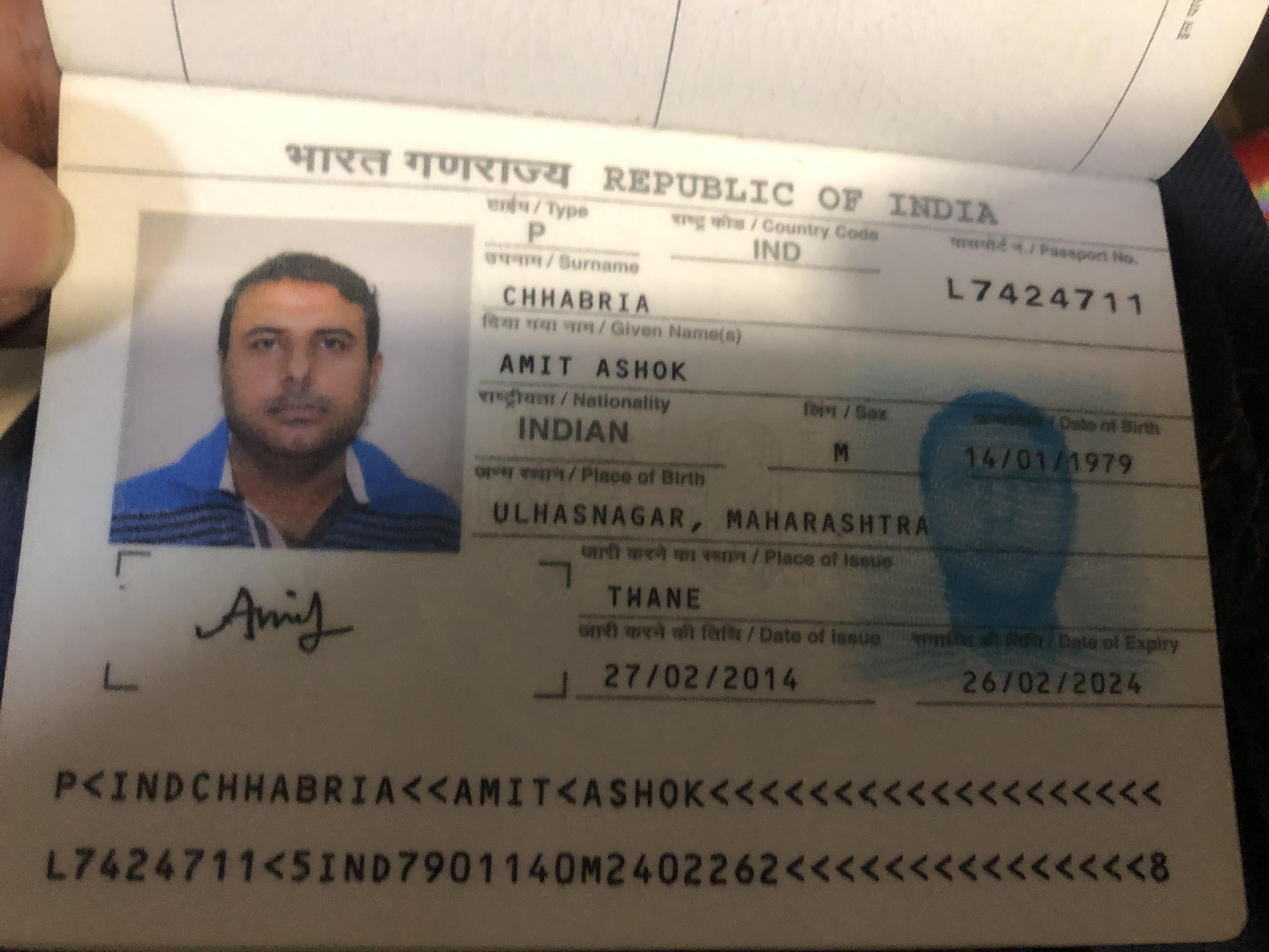DOB: (629, 708, 680, 862)
Surname: (852, 371, 892, 512)
country_code: (911, 548, 957, 611)
date_of_expiry: (323, 710, 389, 871)
date_of_issue: (338, 437, 399, 612)
details: (59, 15, 261, 897)
name: (760, 366, 808, 541)
nationality: (663, 374, 720, 478)
passport_no: (839, 698, 910, 868)
photo: (541, 77, 976, 346)
place_of_birth: (546, 355, 619, 708)
place_of_issue: (445, 443, 505, 538)
sex: (642, 608, 694, 652)
sign: (392, 132, 506, 280)
type: (930, 384, 982, 422)
